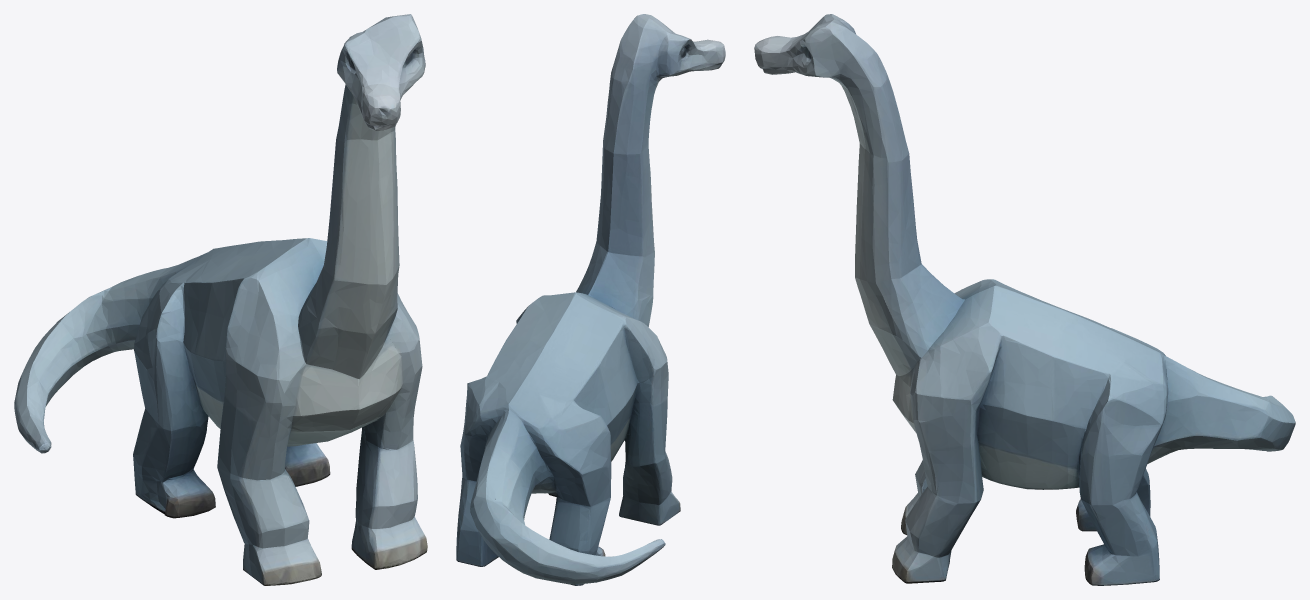
File: brachiosaurus.glb
3 views of the same model, side by side, from view 1: azimuth 30°, elevation 25°; view 2: azimuth 150°, elevation 25°; view 3: azimuth 270°, elevation 25° (orthographic). The views are drawn at different scales.
Visible parts, largest first — view 1: geometry_0; view 2: geometry_0; view 3: geometry_0.
Boxes of the visible parts, bbox=[...] form: geometry_0: bbox=[14, 14, 427, 585]; geometry_0: bbox=[456, 14, 725, 585]; geometry_0: bbox=[754, 14, 1295, 585].
Size of the model in its own units: 0.4956 by 0.999 by 0.9251.
1 material, 1 textured.
